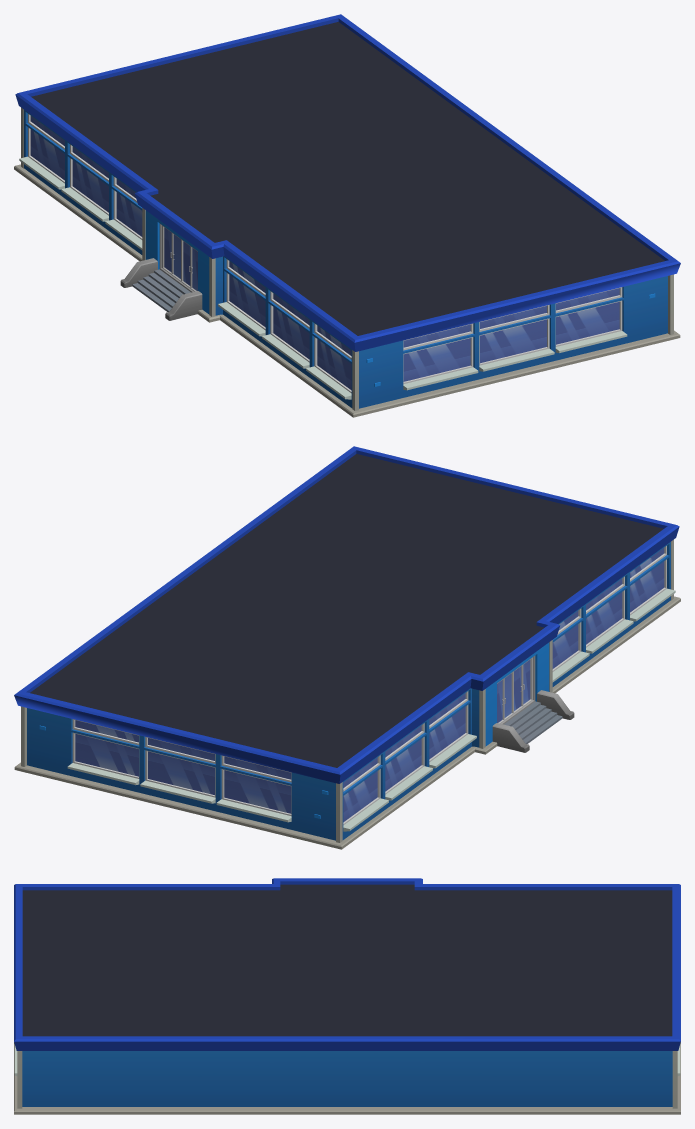
Rendered from Building_16_1_A.fbx.
3 views of the same model, one above another, from view 1: azimuth 30°, elevation 25°; view 2: azimuth 150°, elevation 25°; view 3: azimuth 270°, elevation 25° (orthographic).
Visible parts, largest first — view 1: Building_16_1_A; view 2: Building_16_1_A; view 3: Building_16_1_A.
Part boxes in pixels (box(x1,y1,x2,y2)): Building_16_1_A: box(14, 14, 680, 417); Building_16_1_A: box(14, 446, 680, 849); Building_16_1_A: box(14, 878, 680, 1114).
Size of the model in its own units: 1888 by 375 by 3026.
